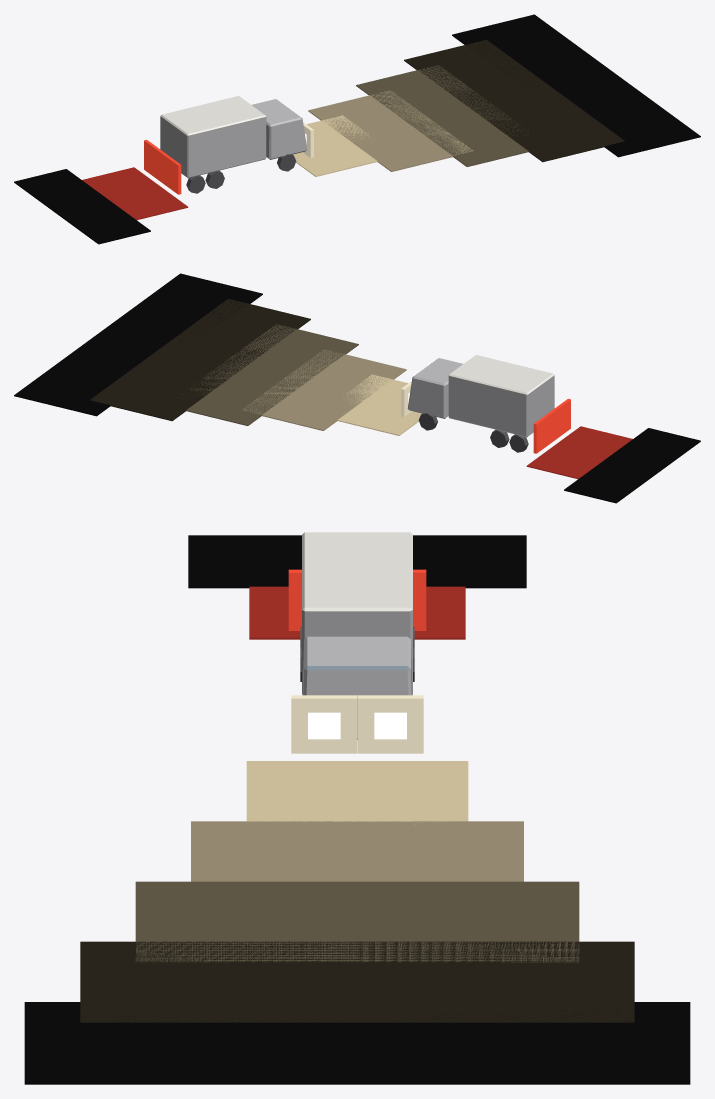
Rendered from veh_rigid_box.glb.
The picture shows the model from 3 angles, top to bottom: view 1: azimuth 30°, elevation 25°; view 2: azimuth 150°, elevation 25°; view 3: azimuth 270°, elevation 25°; orthographic projection. The views are drawn at different scales.
Visible parts, largest first — view 1: veh_rigid_box; view 2: veh_rigid_box; view 3: veh_rigid_box.
Boxes of the visible parts, box(x1,y1,x2,y2) form: veh_rigid_box: box(14, 14, 700, 244); veh_rigid_box: box(14, 273, 700, 503); veh_rigid_box: box(24, 532, 690, 1084).
Size of the model in its own units: 2.45 by 0.255 by 1.26.
